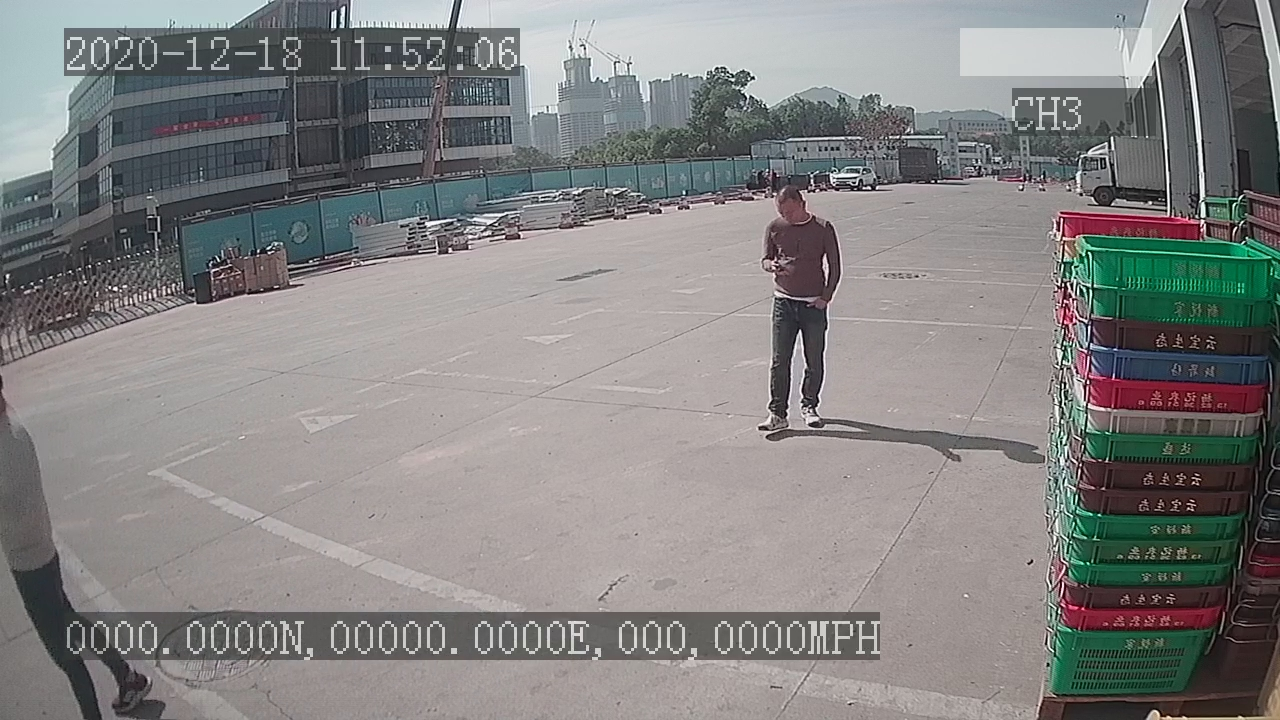person: (752, 183, 845, 436)
